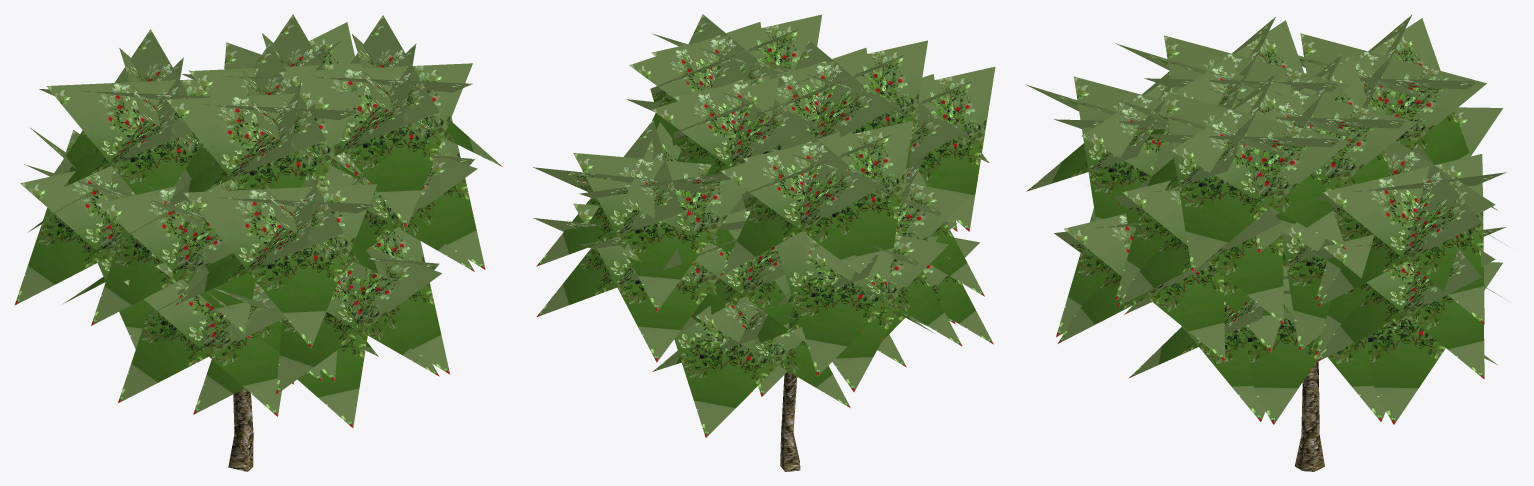
Rendered from apple.glb.
3 renders of one model, left to right at view 1: azimuth 30°, elevation 25°; view 2: azimuth 150°, elevation 25°; view 3: azimuth 270°, elevation 25°, orthographic. The views are drawn at different scales.
Parts seen in each view (by area): view 1: apple_part1, apple_part0; view 2: apple_part1, apple_part0; view 3: apple_part1, apple_part0.
Part boxes in pixels (x1=…): apple_part1: x1=14, y1=14, x2=502, y2=428; apple_part0: x1=228, y1=388, x2=253, y2=471; apple_part1: x1=533, y1=14, x2=995, y2=437; apple_part0: x1=780, y1=371, x2=800, y2=471; apple_part1: x1=1025, y1=14, x2=1509, y2=424; apple_part0: x1=1294, y1=245, x2=1324, y2=471.
Size of the model in its own units: 3.73 by 3.5 by 3.88.
Materials: 2 (2 with a texture image).
